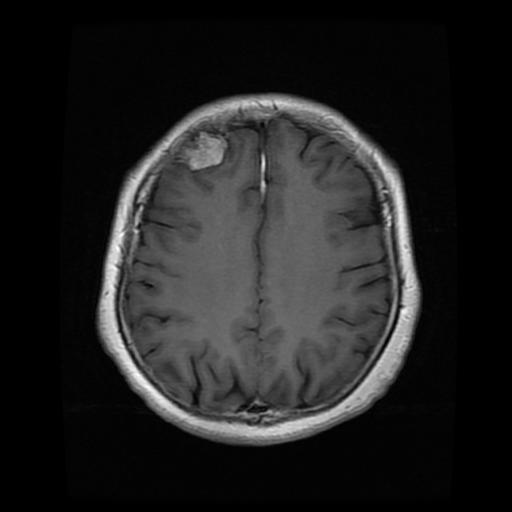Menigiomia_tumour: (175, 131, 227, 170)
